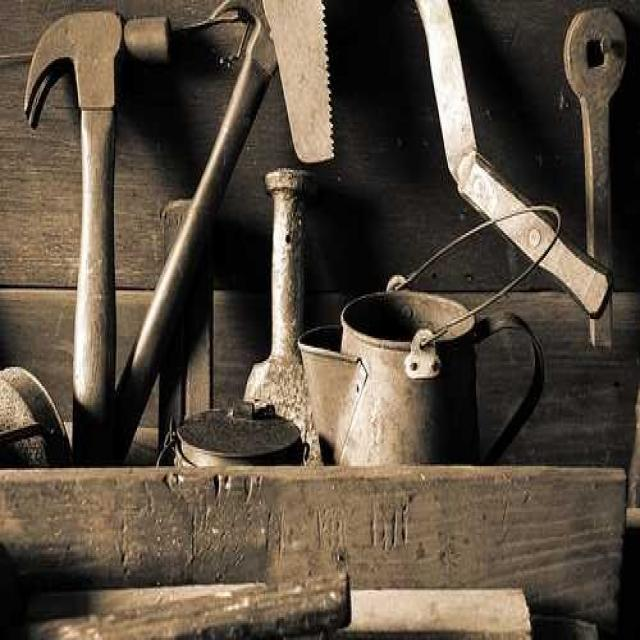hammer: (26, 8, 174, 470)
